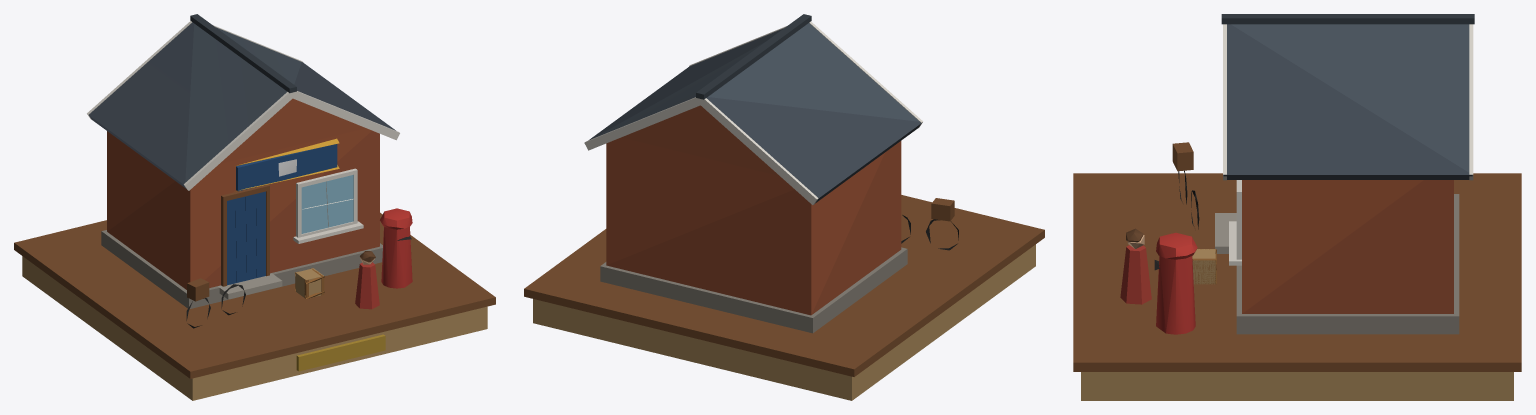
The model's file is post_office_souvenir.glb.
3 renders of one model, left to right at view 1: azimuth 30°, elevation 25°; view 2: azimuth 150°, elevation 25°; view 3: azimuth 270°, elevation 25°, orthographic. The views are drawn at different scales.
Parts seen in each view (by area): view 1: decor-post_office_souvenir; view 2: decor-post_office_souvenir; view 3: decor-post_office_souvenir.
Boxes of the visible parts, box(x1,y1,x2,y2) form: decor-post_office_souvenir: box(14, 14, 495, 400); decor-post_office_souvenir: box(524, 14, 1044, 400); decor-post_office_souvenir: box(1073, 14, 1521, 400).
Bounding box in the file's own units: 1.76 × 1.29 × 1.76.
